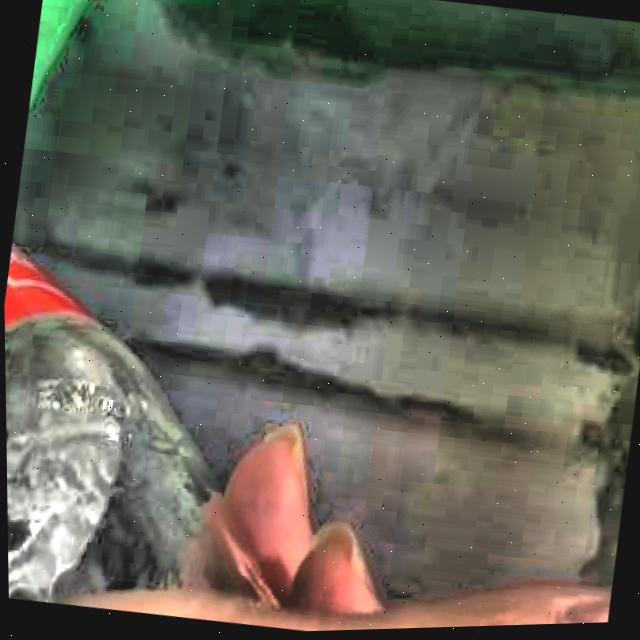glass: (3, 248, 226, 603)
